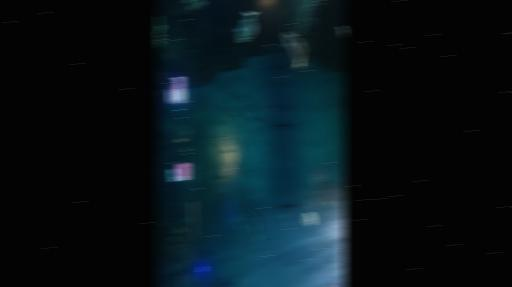Fish: (283, 32, 304, 72), (238, 11, 257, 42), (323, 180, 334, 206), (252, 215, 261, 241), (309, 188, 320, 209), (312, 165, 323, 184), (232, 214, 243, 230), (303, 212, 314, 226), (267, 101, 274, 117), (262, 209, 269, 224), (286, 210, 291, 226), (226, 92, 233, 102), (252, 128, 259, 137), (247, 99, 252, 111), (280, 204, 299, 207), (340, 26, 345, 37), (286, 218, 291, 226), (231, 110, 236, 117), (240, 213, 245, 219), (237, 95, 244, 99), (251, 115, 255, 122), (277, 124, 290, 126), (237, 114, 242, 119), (226, 119, 231, 123), (278, 214, 283, 218), (244, 93, 246, 102), (227, 108, 232, 111), (225, 106, 228, 109), (330, 285, 334, 286)
